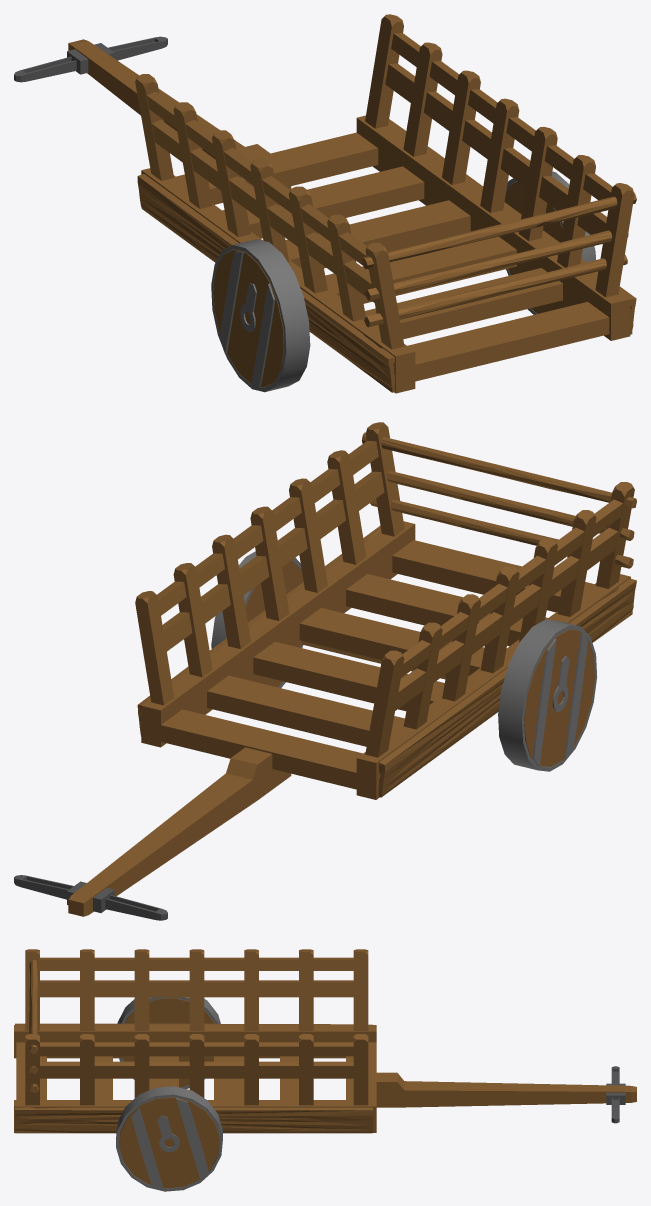
File: SM_cart_wagon_01.fbx
The picture shows the model from 3 angles, top to bottom: view 1: azimuth 30°, elevation 25°; view 2: azimuth 150°, elevation 25°; view 3: azimuth 270°, elevation 25°; orthographic projection. The views are drawn at different scales.
Parts seen in each view (by area): view 1: cart_wagon_01; view 2: cart_wagon_01; view 3: cart_wagon_01.
Boxes of the visible parts, bbox=[...] form: cart_wagon_01: bbox=[14, 14, 636, 393]; cart_wagon_01: bbox=[14, 422, 636, 920]; cart_wagon_01: bbox=[14, 949, 636, 1191].
Size of the model in its own units: 237 by 146 by 571.
